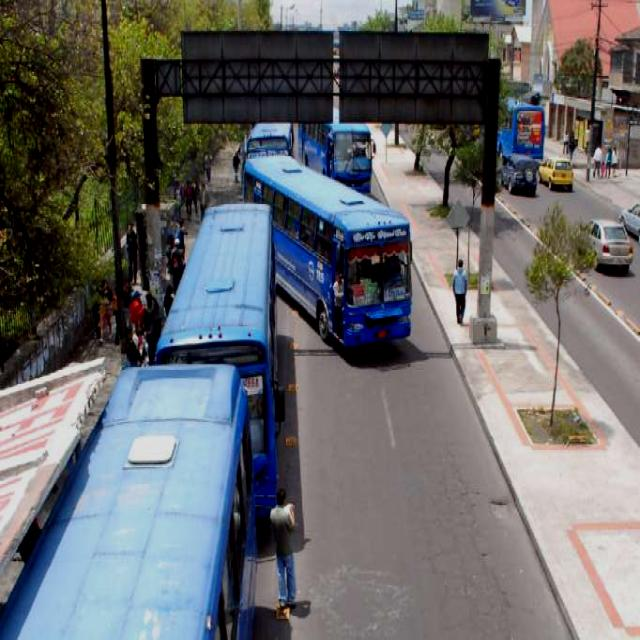BUS: (250, 153, 420, 355)
